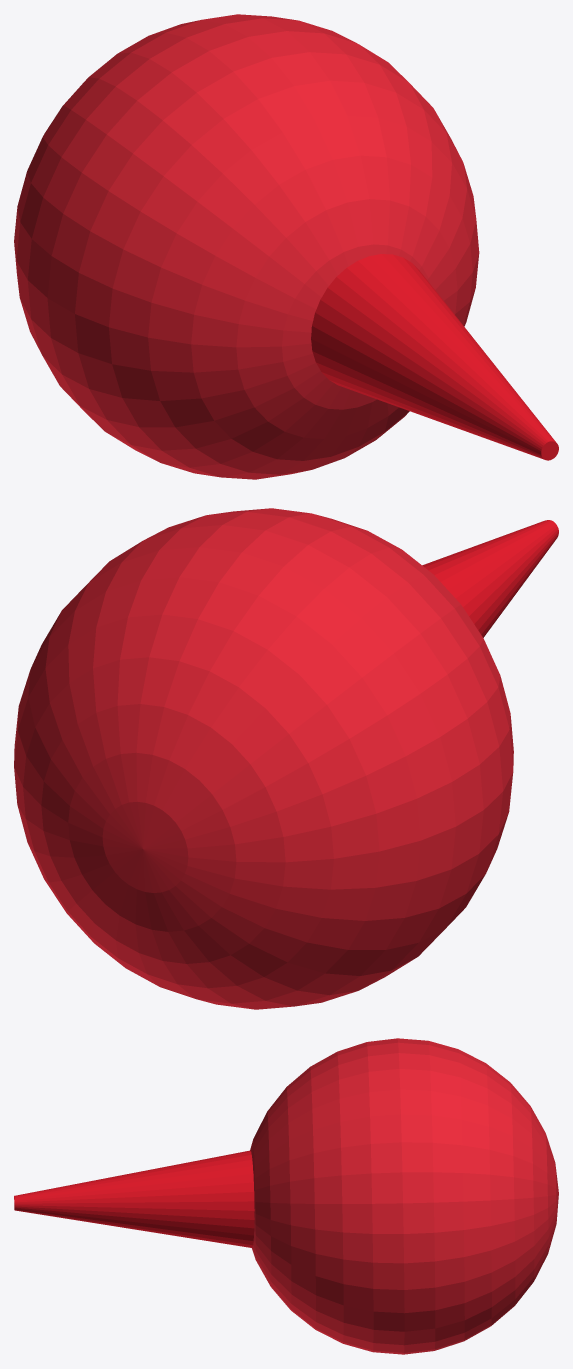
Rendered from pinner.glb.
3 renders of one model, top to bottom at view 1: azimuth 30°, elevation 25°; view 2: azimuth 150°, elevation 25°; view 3: azimuth 270°, elevation 25°, orthographic. The views are drawn at different scales.
Visible parts, largest first — view 1: Cylinder; view 2: Cylinder; view 3: Cylinder.
Part boxes in pixels (x1,y1,x2,y2): Cylinder: [14, 14, 558, 479]; Cylinder: [14, 508, 558, 1009]; Cylinder: [14, 1038, 558, 1354].
Bounding box in the file's own units: 0.0164 × 0.0164 × 0.0282.
